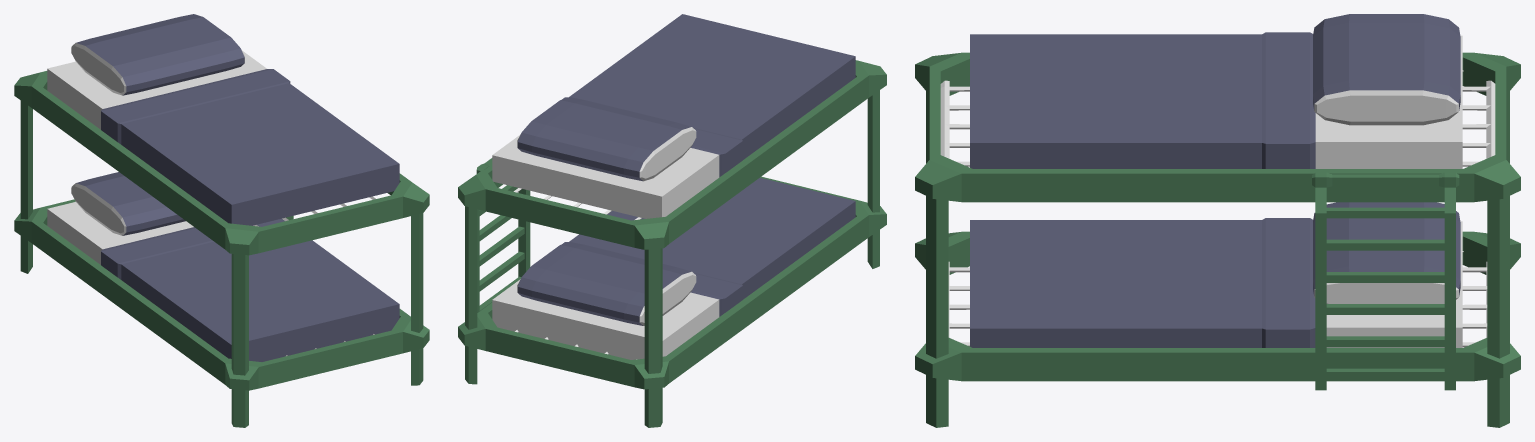
The model's file is Кровать (Двойная).fbx.
3 views of the same model, side by side, from view 1: azimuth 30°, elevation 25°; view 2: azimuth 150°, elevation 25°; view 3: azimuth 270°, elevation 25° (orthographic). The views are drawn at different scales.
Visible parts, largest first — view 1: Cube.002, Cube, Plane.002, Plane, Cube.003, Cube.001; view 2: Cube.002, Cube, Plane.002, Plane, Cube.003, Cube.001, Cube.005, Cube.004; view 3: Cube.002, Cube, Plane.002, Plane, Cube.003, Cube.001, Cube.005, Cube.004, Plane.003, Plane.001.
Part boxes in pixels (x1,y1,x2,y2): Cube.002: [47, 50, 399, 225]; Cube: [47, 202, 399, 361]; Plane.002: [14, 71, 429, 375]; Plane: [14, 199, 429, 427]; Cube.003: [71, 14, 244, 95]; Cube.001: [71, 172, 185, 235]; Cube.002: [492, 14, 855, 218]; Cube: [492, 177, 855, 359]; Plane.002: [458, 60, 886, 373]; Plane: [458, 176, 886, 427]; Cube.003: [517, 97, 696, 181]; Cube.001: [517, 242, 696, 325]; Cube.005: [479, 185, 524, 310]; Cube.004: [476, 158, 530, 312]; Cube.002: [970, 32, 1462, 168]; Cube: [970, 218, 1462, 347]; Plane.002: [915, 52, 1520, 358]; Plane: [915, 231, 1520, 427]; Cube.003: [1313, 14, 1460, 125]; Cube.001: [1313, 202, 1460, 303]; Cube.005: [1326, 207, 1444, 379]; Cube.004: [1312, 172, 1459, 390]; Plane.003: [940, 70, 1495, 166]; Plane.001: [948, 251, 1487, 347].
Size of the model in its own units: 111 by 122 by 212.
